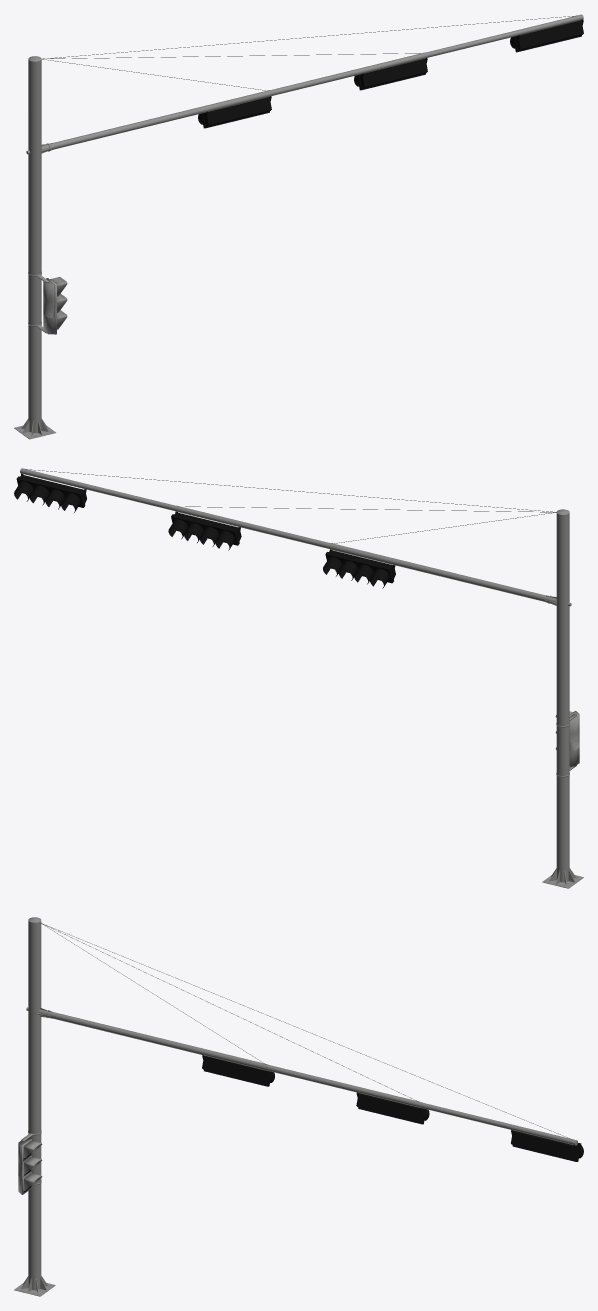
File: TrafficLight_Assembly_3Head.fbx
The picture shows the model from 3 angles, top to bottom: view 1: azimuth 30°, elevation 25°; view 2: azimuth 150°, elevation 25°; view 3: azimuth 330°, elevation 25°; orthographic projection.
Parts seen in each view (by area): view 1: 3H_TL_Pole_Static, 3H_TL_Arm_Base_Geometry, 3H_TL_Pedestrian_Number_Housing, 3H_S3_TL_Signal4_Housing, 3H_S2_TL_Signal4_Housing, 3H_S1_TL_Signal4_Housing, 3H_TL_Arm_ExtensionA_Geometry, 3H_TL_Arm_ExtensionB_Geometry; view 2: 3H_TL_Pole_Static, 3H_TL_Arm_Base_Geometry, 3H_S3_TL_Signal4_Housing, 3H_S2_TL_Signal4_Housing, 3H_S1_TL_Signal4_Housing, 3H_TL_Arm_ExtensionA_Geometry, 3H_TL_Arm_ExtensionB_Geometry, 3H_TL_Pedestrian_Number_Housing; view 3: 3H_TL_Pole_Static, 3H_TL_Arm_Base_Geometry, 3H_S3_TL_Signal4_Housing, 3H_S2_TL_Signal4_Housing, 3H_S1_TL_Signal4_Housing, 3H_TL_Arm_ExtensionA_Geometry, 3H_TL_Pedestrian_Number_Housing, 3H_TL_Arm_ExtensionB_Geometry.
Boxes of the visible parts, x1,y1,x2,y2 form: 3H_TL_Pole_Static: [14, 56, 55, 439]; 3H_TL_Arm_Base_Geometry: [41, 90, 271, 153]; 3H_TL_Pedestrian_Number_Housing: [28, 272, 67, 334]; 3H_S3_TL_Signal4_Housing: [510, 19, 583, 52]; 3H_S2_TL_Signal4_Housing: [354, 58, 427, 90]; 3H_S1_TL_Signal4_Housing: [198, 96, 271, 128]; 3H_TL_Arm_ExtensionA_Geometry: [270, 52, 427, 95]; 3H_TL_Arm_ExtensionB_Geometry: [426, 14, 583, 57]; 3H_TL_Pole_Static: [542, 509, 583, 888]; 3H_TL_Arm_Base_Geometry: [328, 543, 556, 605]; 3H_S3_TL_Signal4_Housing: [14, 473, 86, 512]; 3H_S2_TL_Signal4_Housing: [168, 511, 241, 550]; 3H_S1_TL_Signal4_Housing: [323, 549, 395, 588]; 3H_TL_Arm_ExtensionA_Geometry: [174, 505, 330, 548]; 3H_TL_Arm_ExtensionB_Geometry: [20, 468, 175, 510]; 3H_TL_Pedestrian_Number_Housing: [555, 711, 579, 777]; 3H_TL_Pole_Static: [14, 917, 55, 1296]; 3H_TL_Arm_Base_Geometry: [35, 1007, 268, 1070]; 3H_S3_TL_Signal4_Housing: [511, 1129, 583, 1161]; 3H_S2_TL_Signal4_Housing: [356, 1092, 429, 1124]; 3H_S1_TL_Signal4_Housing: [202, 1054, 274, 1086]; 3H_TL_Arm_ExtensionA_Geometry: [266, 1065, 422, 1108]; 3H_TL_Pedestrian_Number_Housing: [18, 1131, 42, 1194]; 3H_TL_Arm_ExtensionB_Geometry: [421, 1102, 577, 1145].
Bounding box in the file's own units: 12.58 × 8 × 1.07.
Materials: 4 (3 with a texture image).
